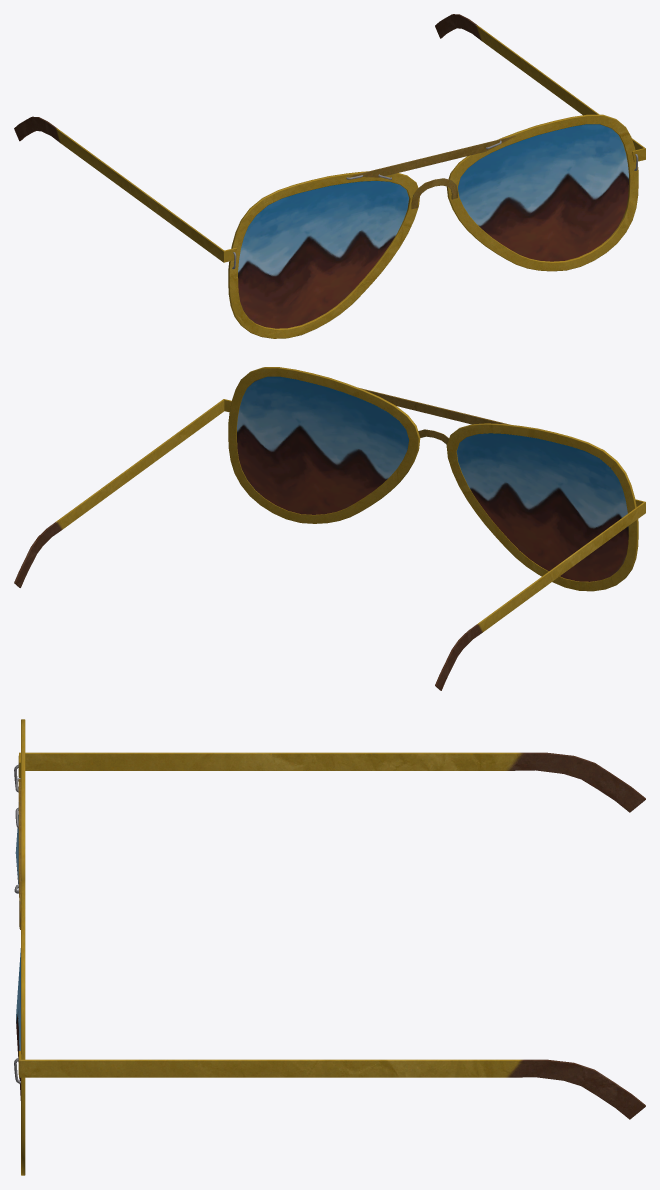
Rendered from spec4.fbx.
3 views of the same model, one above another, from view 1: azimuth 30°, elevation 25°; view 2: azimuth 150°, elevation 25°; view 3: azimuth 270°, elevation 25° (orthographic). The views are drawn at different scales.
Parts seen in each view (by area): view 1: node_id133; view 2: node_id133; view 3: node_id133.
Part boxes in pixels (x1,y1,x2,y2): node_id133: (14,14,645,338); node_id133: (14,367,645,690); node_id133: (14,719,645,1175).
Bounding box in the file's own units: 0.512 × 0.1758 × 0.4438.
1 material, 1 textured.
